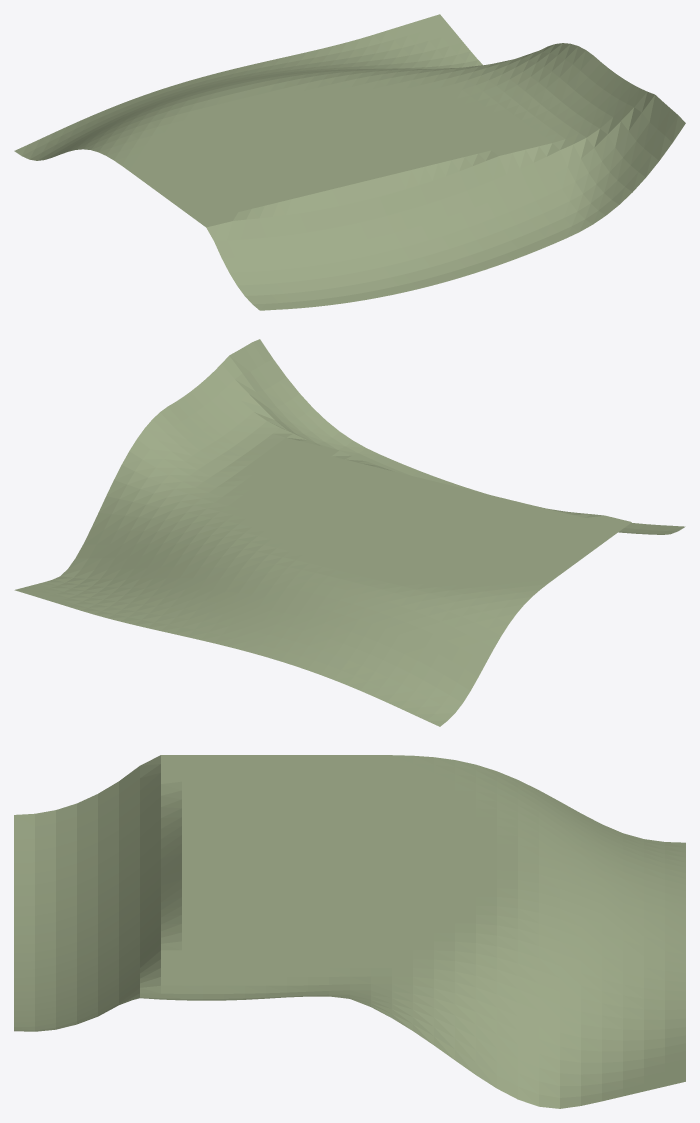
Rendered from alpine-9-11.glb.
3 renders of one model, top to bottom at view 1: azimuth 30°, elevation 25°; view 2: azimuth 150°, elevation 25°; view 3: azimuth 270°, elevation 25°, orthographic. The views are drawn at different scales.
Visible parts, largest first — view 1: alpine-9-11; view 2: alpine-9-11; view 3: alpine-9-11.
Boxes of the visible parts, x1,y1,x2,y2 form: alpine-9-11: (14,14,685,310); alpine-9-11: (14,339,685,726); alpine-9-11: (14,755,685,1108).
Bounding box in the file's own units: 256 × 63.17 × 256.
